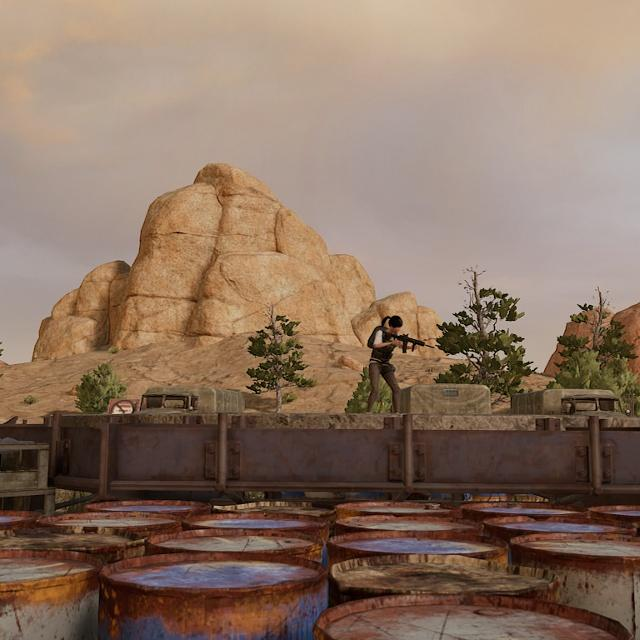head: (385, 312, 408, 338)
people: (362, 312, 416, 414)
